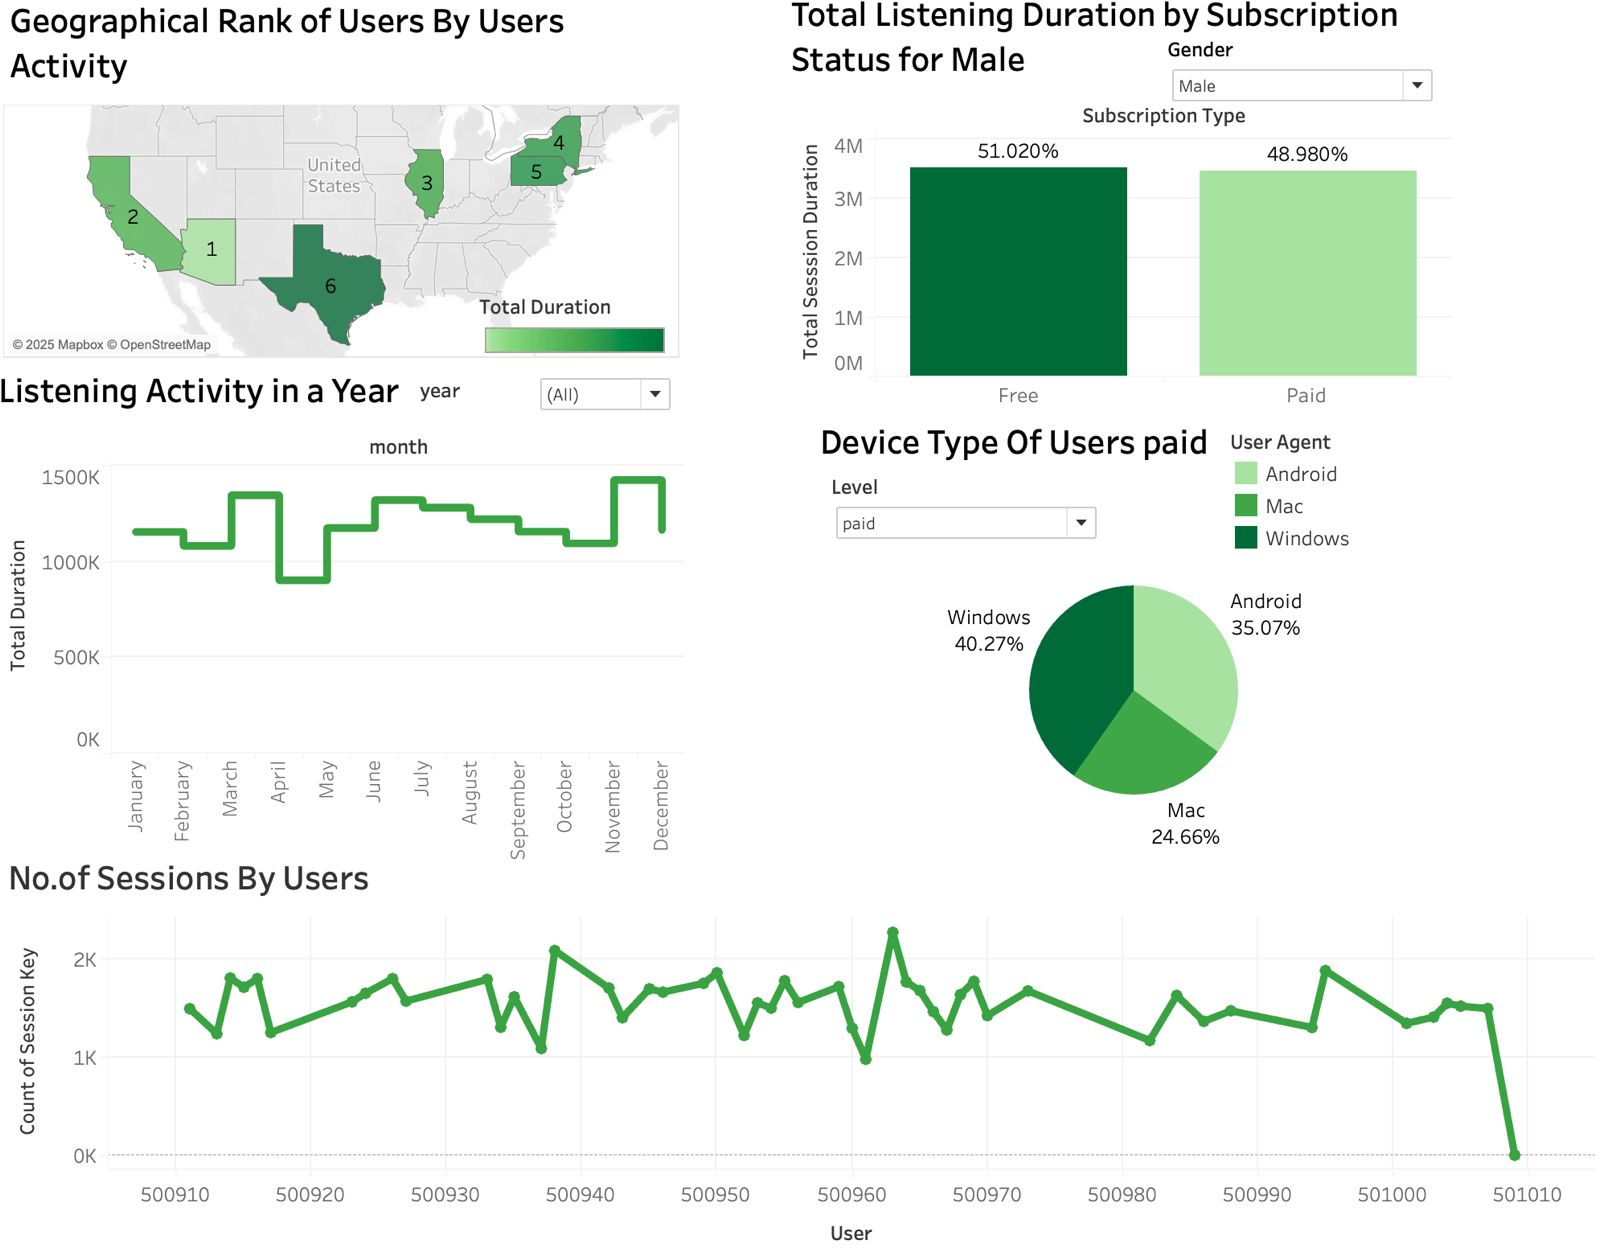

The dashboard page shown, as its layout file describes it:
{"tool":"tableau","page":{"name":"Dashboard 1","canvas":[1000,800],"ordinal":0},"visuals":[{"type":"worksheet","title":"Sheet 2","mark":"Automatic","rows":["total_sesssion_duration"],"cols":["subscription_type"],"box":[493,4,415,265]},{"type":"worksheet","title":"Sheet 1","mark":"Automatic","box":[7,8,421,229]},{"type":"filter","title":"Sheet 2","param":"[federated.03xx8dg0vudfhy173v58g0xasnxm].[none:gender:nk]","box":[731,36,168,52]},{"type":"legend","title":"Sheet 1","param":"[federated.03xx8dg0vudfhy173v58g0xasnxm].[cum:sum:total_duration:qk]","box":[303,196,120,39]},{"type":"worksheet","title":"Sheet 3","mark":"Line","rows":["total_duration (Custom SQL Query1)"],"cols":["month"],"box":[0,238,431,324]},{"type":"filter","title":"Sheet 3","param":"[federated.03xx8dg0vudfhy173v58g0xasnxm].[none:year:ok]","box":[266,246,159,37]},{"type":"worksheet","title":"Sheet 4","mark":"Pie","box":[511,270,398,303]},{"type":"legend","title":"Sheet 4","param":"[federated.03xx8dg0vudfhy173v58g0xasnxm].[none:user_agent:nk]","box":[770,280,140,78]},{"type":"filter","title":"Sheet 4","param":"[federated.03xx8dg0vudfhy173v58g0xasnxm].[none:level:nk]","box":[522,308,168,52]},{"type":"worksheet","title":"Sheet 5","mark":"Automatic","rows":["session_key"],"cols":["userkey"],"box":[6,541,991,255]}]}

Visuals, with their boxes in screenshot pixels (x1, y1, x2, y2), scaled from the page's 1000x800 canvas onto the 1600x1253 screenshot:
"Sheet 2" worksheet: l=789, t=6, r=1453, b=421
"Sheet 1" worksheet: l=11, t=13, r=685, b=371
"Sheet 2" filter: l=1170, t=56, r=1438, b=138
"Sheet 1" legend: l=485, t=307, r=677, b=368
"Sheet 3" worksheet (Line marks): l=0, t=373, r=690, b=880
"Sheet 3" filter: l=426, t=385, r=680, b=443
"Sheet 4" worksheet (Pie marks): l=818, t=423, r=1454, b=897
"Sheet 4" legend: l=1232, t=439, r=1456, b=561
"Sheet 4" filter: l=835, t=482, r=1104, b=564
"Sheet 5" worksheet: l=10, t=847, r=1595, b=1247
